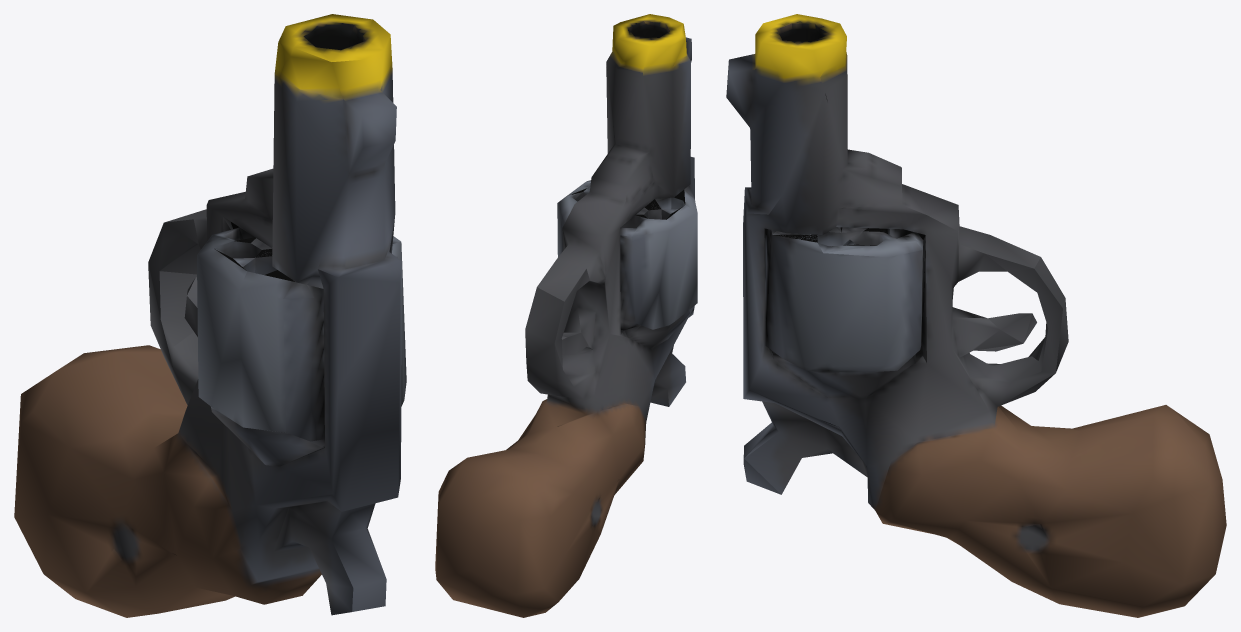
Rendered from hammer44.glb.
3 views of the same model, side by side, from view 1: azimuth 30°, elevation 25°; view 2: azimuth 150°, elevation 25°; view 3: azimuth 270°, elevation 25° (orthographic). The views are drawn at different scales.
Visible parts, largest first — view 1: hammer44, part_cylinder; view 2: hammer44, part_cylinder; view 3: hammer44, part_cylinder.
Part boxes in pixels (x1,y1,x2,y2): hammer44: [14, 14, 401, 617]; part_cylinder: [197, 216, 406, 441]; hammer44: [435, 14, 694, 617]; part_cylinder: [557, 180, 697, 330]; hammer44: [726, 14, 1226, 617]; part_cylinder: [765, 227, 926, 372].
Bounding box in the file's own units: 0.0901 × 0.3634 × 0.2893.
1 material, 1 textured.
